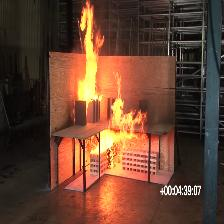fire: (77, 4, 105, 105), (108, 105, 156, 146)
